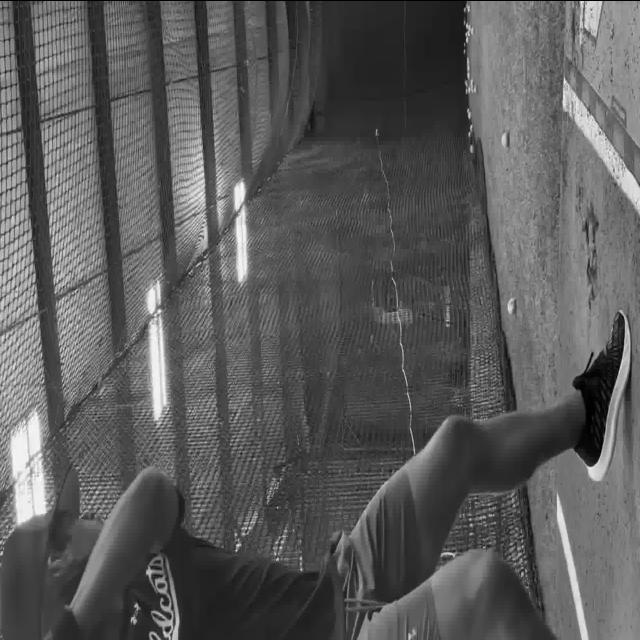baseball: (506, 297, 516, 315), (501, 130, 509, 148)
shoe: (572, 308, 632, 482)
